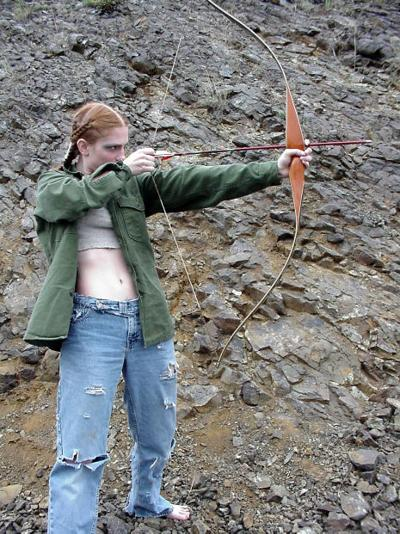person: (22, 104, 312, 534)
